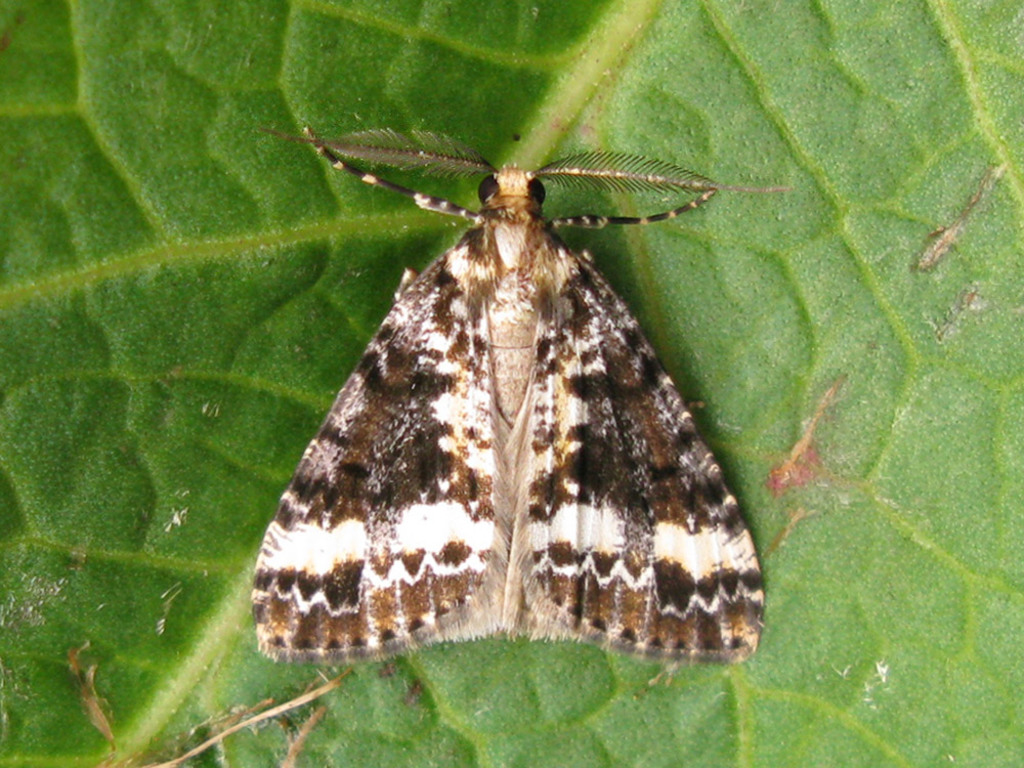Butterfly: (220, 111, 777, 675)
